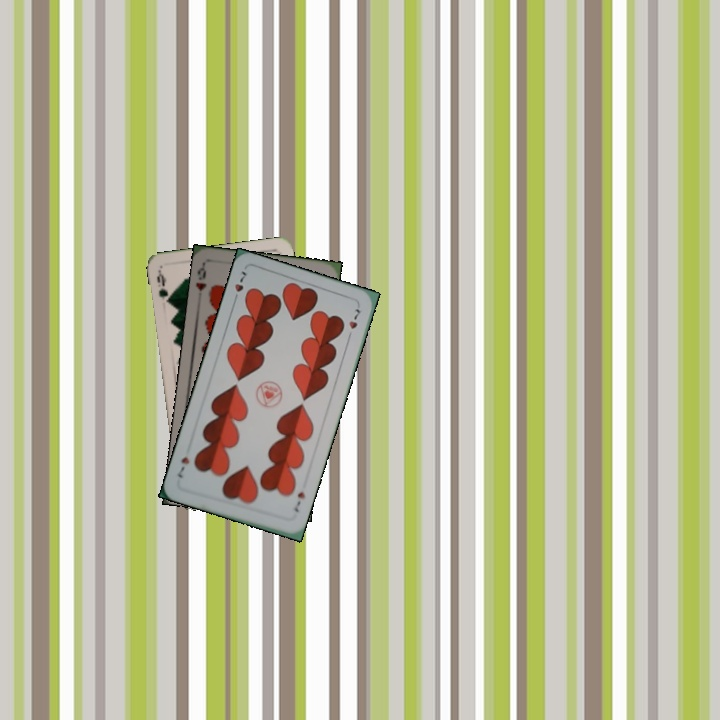G9: (153, 267, 173, 307)
H7: (229, 267, 249, 305), (289, 487, 308, 515)
H9: (192, 261, 209, 294)
